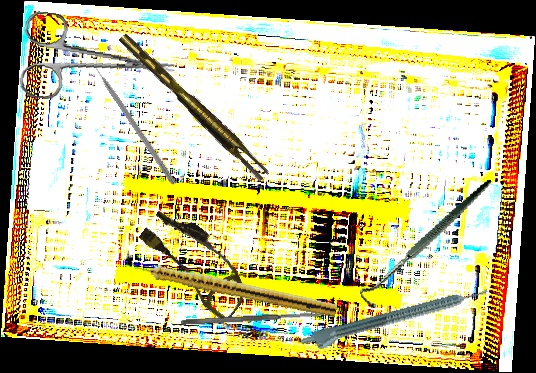Cannula: (128, 201, 264, 324)
Chopper: (87, 53, 184, 186)
Handpiece: (299, 285, 492, 356), (129, 256, 339, 318)
Hook Surgical: (340, 179, 516, 311)
Iris Scissors: (17, 9, 180, 115)
Spatula Surgical: (180, 311, 325, 326)
Tissue Forceps: (118, 25, 271, 187)
